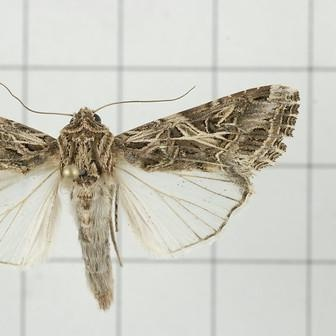Spodoptera litura: (0, 83, 301, 312)
